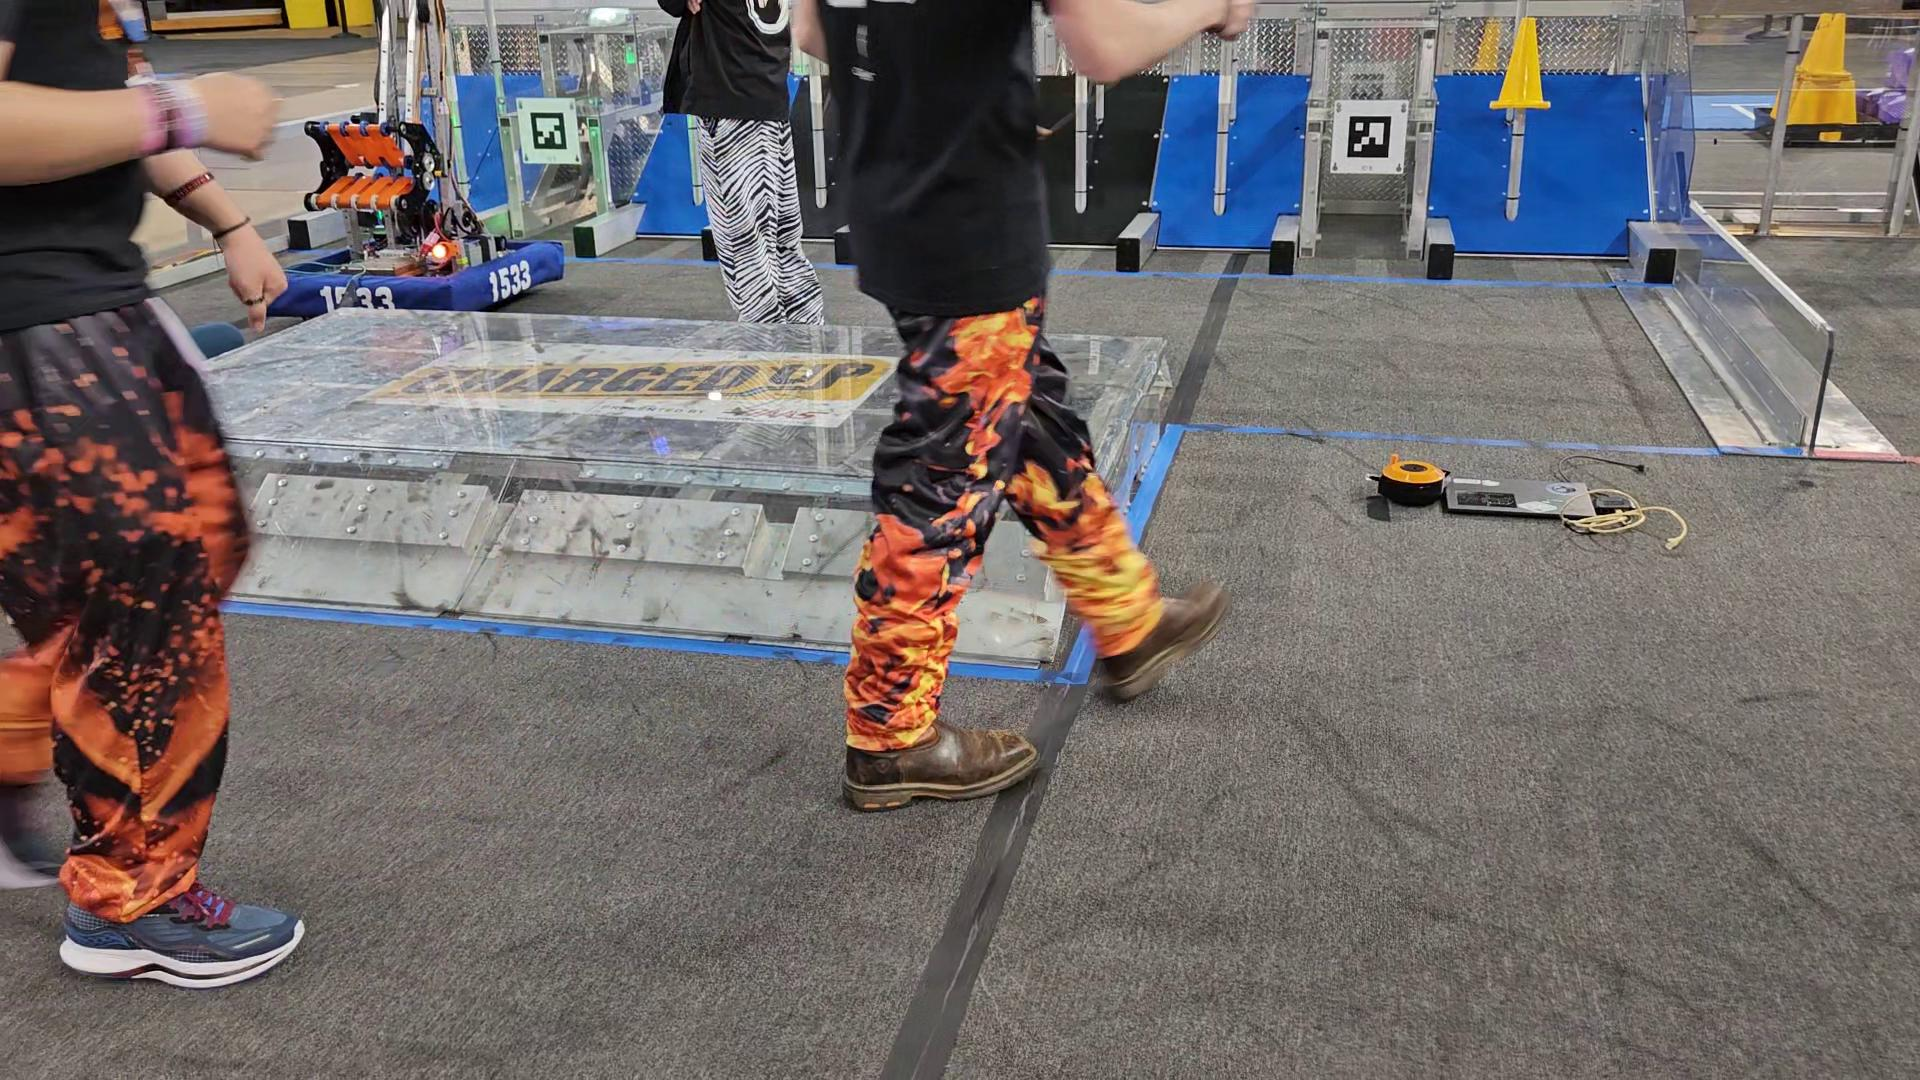robot: (280, 61, 559, 301)
